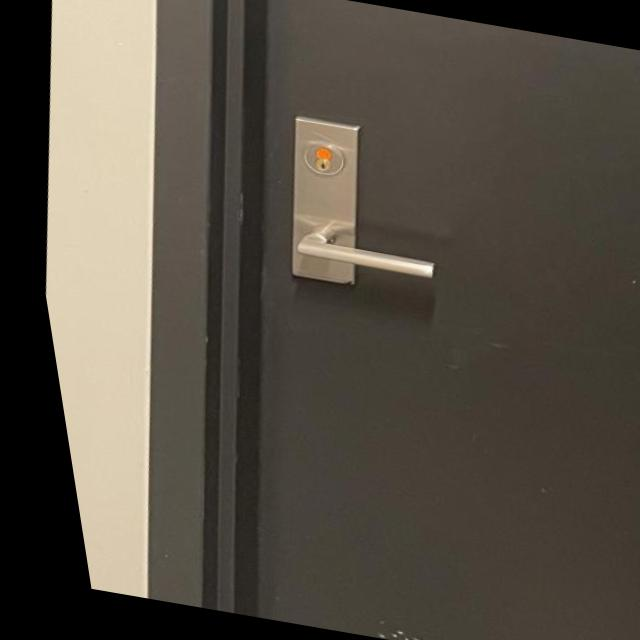door_handle: (256, 208, 454, 310)
